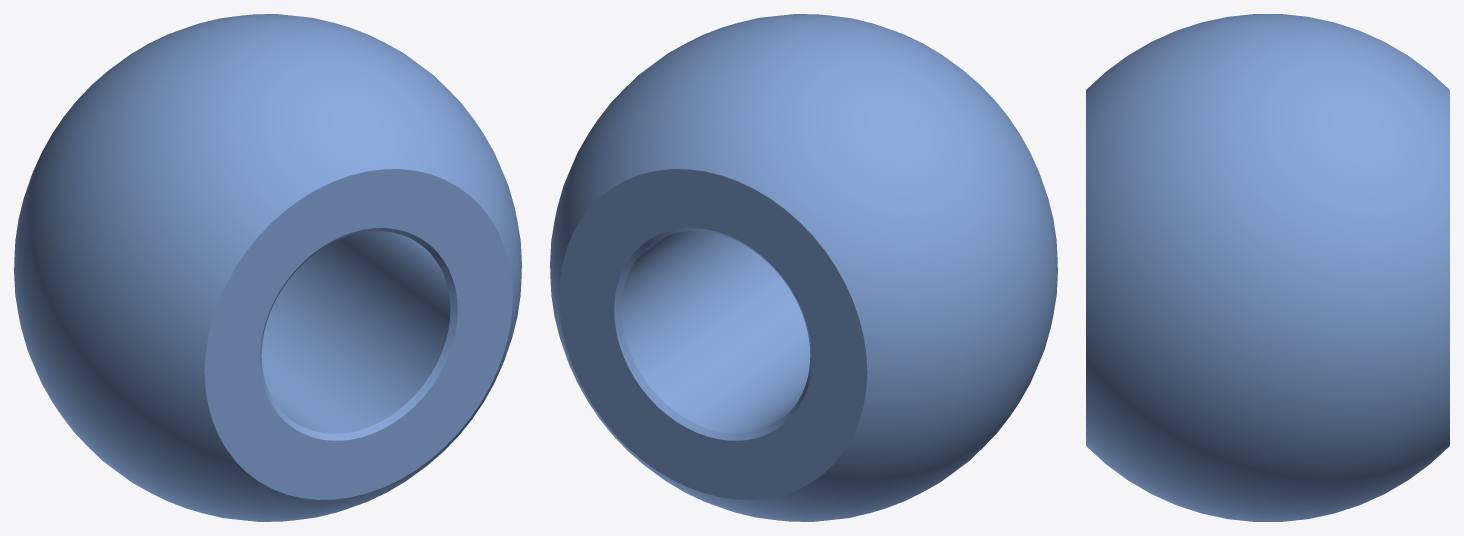
Rendered from Chamfer2.gltf.
3 renders of one model, left to right at view 1: azimuth 30°, elevation 25°; view 2: azimuth 150°, elevation 25°; view 3: azimuth 270°, elevation 25°, orthographic.
Visible parts, largest first — view 1: mesh56684, mesh56685, mesh56681, mesh56680; view 2: mesh56684, mesh56683, mesh56681, mesh56682; view 3: mesh56684.
Part boxes in pixels (<box>): mesh56684: <box>14,14,521,521</box>; mesh56685: <box>204,169,512,499</box>; mesh56681: <box>261,231,450,433</box>; mesh56680: <box>259,228,457,440</box>; mesh56684: <box>550,14,1057,521</box>; mesh56683: <box>559,169,867,499</box>; mesh56681: <box>621,231,810,433</box>; mesh56682: <box>614,228,812,440</box>; mesh56684: <box>1086,14,1449,521</box>.
Bounding box in the file's own units: 0.0111 × 0.0111 × 0.00794.
